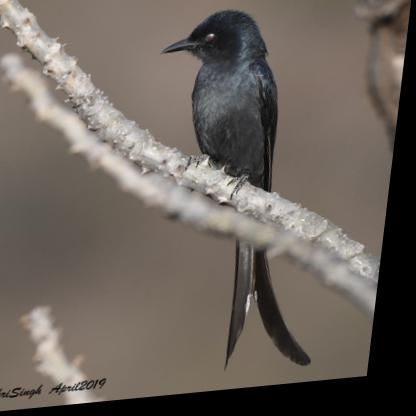Burung: (130, 6, 355, 390)
